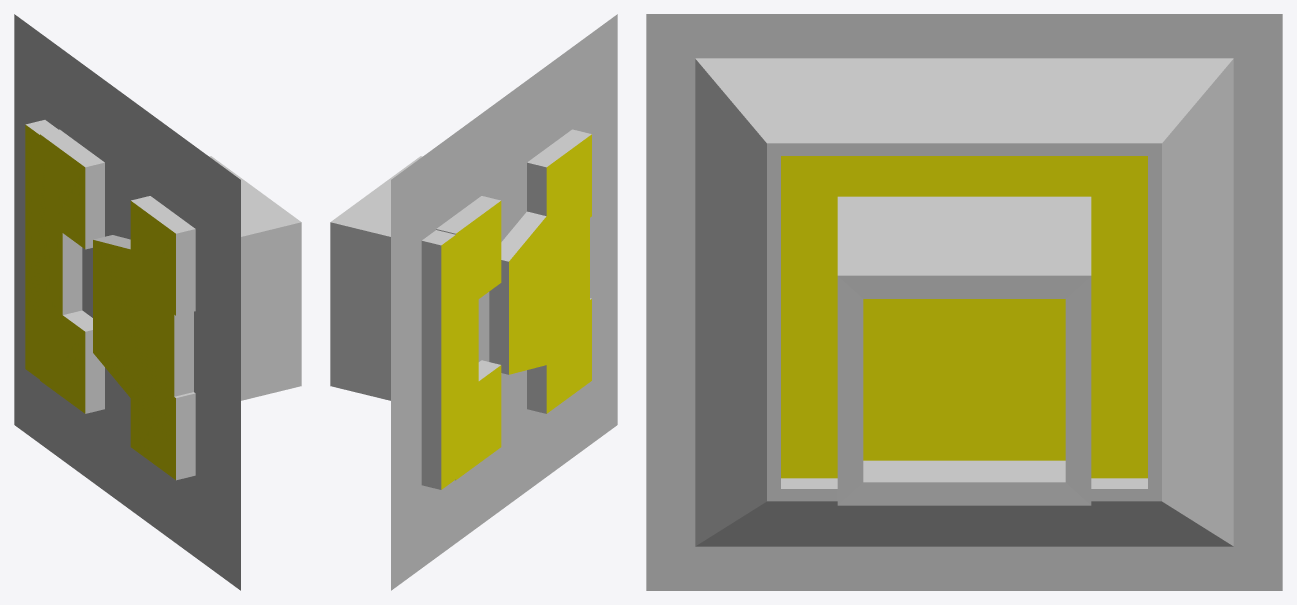
The model's file is Walls 1.fbx.
3 renders of one model, left to right at view 1: azimuth 30°, elevation 25°; view 2: azimuth 150°, elevation 25°; view 3: azimuth 270°, elevation 25°, orthographic. The views are drawn at different scales.
Visible parts, largest first — view 1: SM_Wall_01, SM_Wall_06, SM_Wall_03, SM_Wall_02, SM_Wall_05, SM_Wall_04; view 2: SM_Wall_01, SM_Wall_03, SM_Wall_02, SM_Wall_06, SM_Wall_05, SM_Wall_04; view 3: SM_Wall_04, SM_Wall_05, SM_Wall_01, SM_Wall_02, SM_Wall_03, SM_Wall_06.
Boxes of the visible parts, x1,y1,x2,y2 form: SM_Wall_01: (14,14,240,590); SM_Wall_06: (14,17,240,588); SM_Wall_03: (14,18,240,589); SM_Wall_02: (14,14,240,589); SM_Wall_05: (14,16,301,584); SM_Wall_04: (14,18,240,587); SM_Wall_01: (391,14,617,590); SM_Wall_03: (391,15,617,589); SM_Wall_02: (391,16,617,589); SM_Wall_06: (391,21,617,588); SM_Wall_05: (330,19,617,587); SM_Wall_04: (391,16,617,587); SM_Wall_04: (646,14,1282,590); SM_Wall_05: (646,14,1282,590); SM_Wall_01: (646,14,1282,590); SM_Wall_02: (646,14,1282,590); SM_Wall_03: (646,14,1282,590); SM_Wall_06: (646,14,1282,590).
Size of the model in its own units: 1 by 1 by 0.3779.
